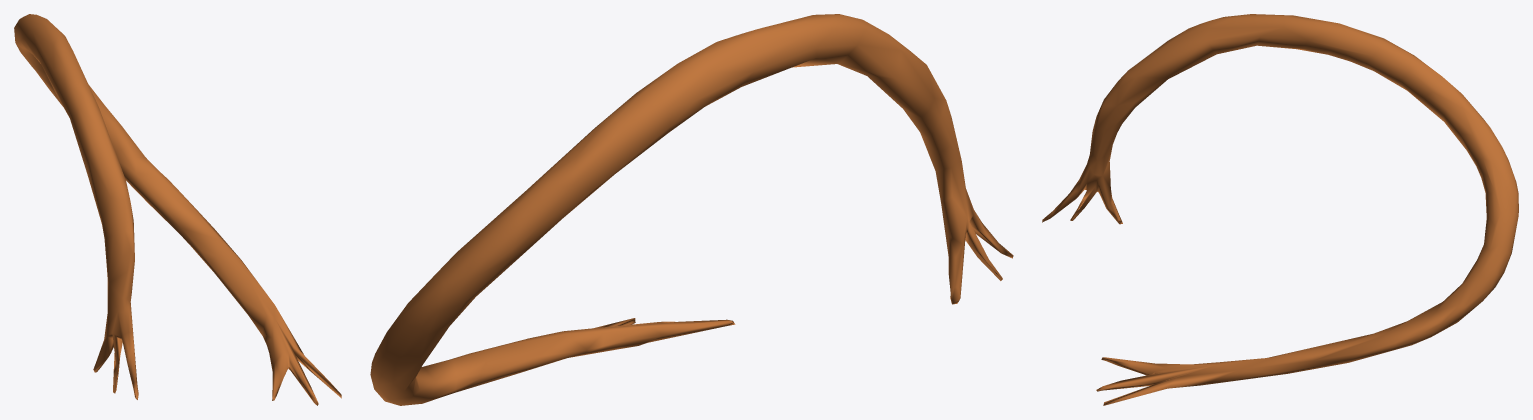
File: Stria_terminalis_left.glb
3 renders of one model, left to right at view 1: azimuth 30°, elevation 25°; view 2: azimuth 150°, elevation 25°; view 3: azimuth 270°, elevation 25°, orthographic. The views are drawn at different scales.
Visible parts, largest first — view 1: Stria_terminalis.l_grp1.037; view 2: Stria_terminalis.l_grp1.037; view 3: Stria_terminalis.l_grp1.037.
Boxes of the visible parts, x1=… form: Stria_terminalis.l_grp1.037: x1=14, y1=14, x2=341, y2=405; Stria_terminalis.l_grp1.037: x1=370, y1=14, x2=1013, y2=405; Stria_terminalis.l_grp1.037: x1=1042, y1=14, x2=1518, y2=405.
Size of the model in its own units: 0.0249 by 0.0299 by 0.0423.
